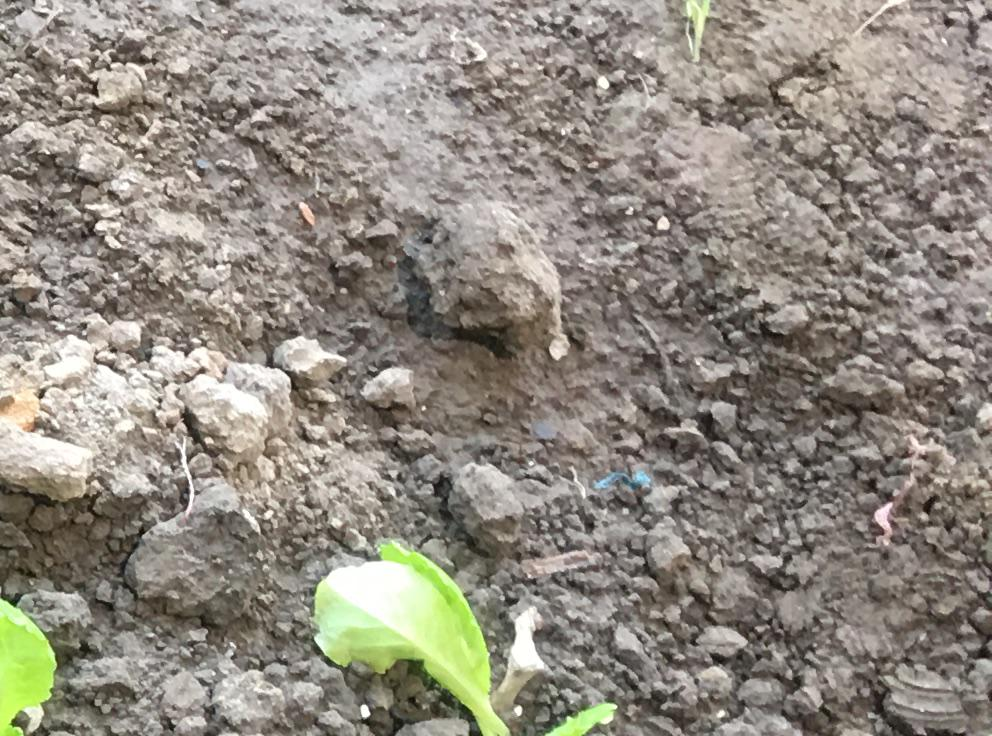block: (404, 199, 568, 363), (121, 486, 258, 627), (181, 358, 295, 465), (450, 456, 519, 554)
